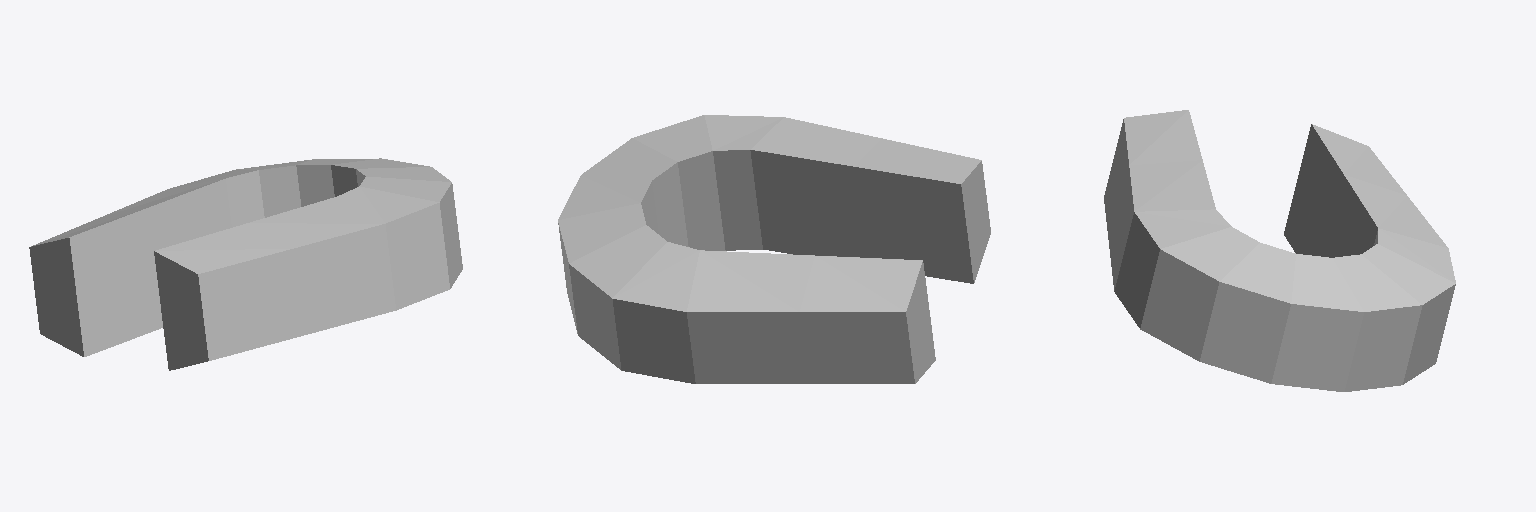
Rendered from magnetBooster_obj.obj.
3 views of the same model, side by side, from view 1: azimuth 30°, elevation 25°; view 2: azimuth 150°, elevation 25°; view 3: azimuth 270°, elevation 25° (orthographic).
Parts seen in each view (by area): view 1: magnetBooster_0; view 2: magnetBooster_0; view 3: magnetBooster_0.
Part boxes in pixels (bbox=[...]): magnetBooster_0: bbox=[29, 158, 462, 370]; magnetBooster_0: bbox=[558, 115, 990, 383]; magnetBooster_0: bbox=[1104, 110, 1455, 391].
Bounding box in the file's own units: 2.81 × 1.1 × 2.35.